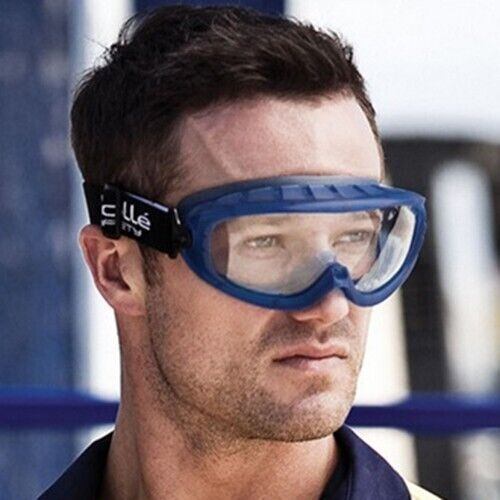safety_goggles: (60, 163, 454, 315)
